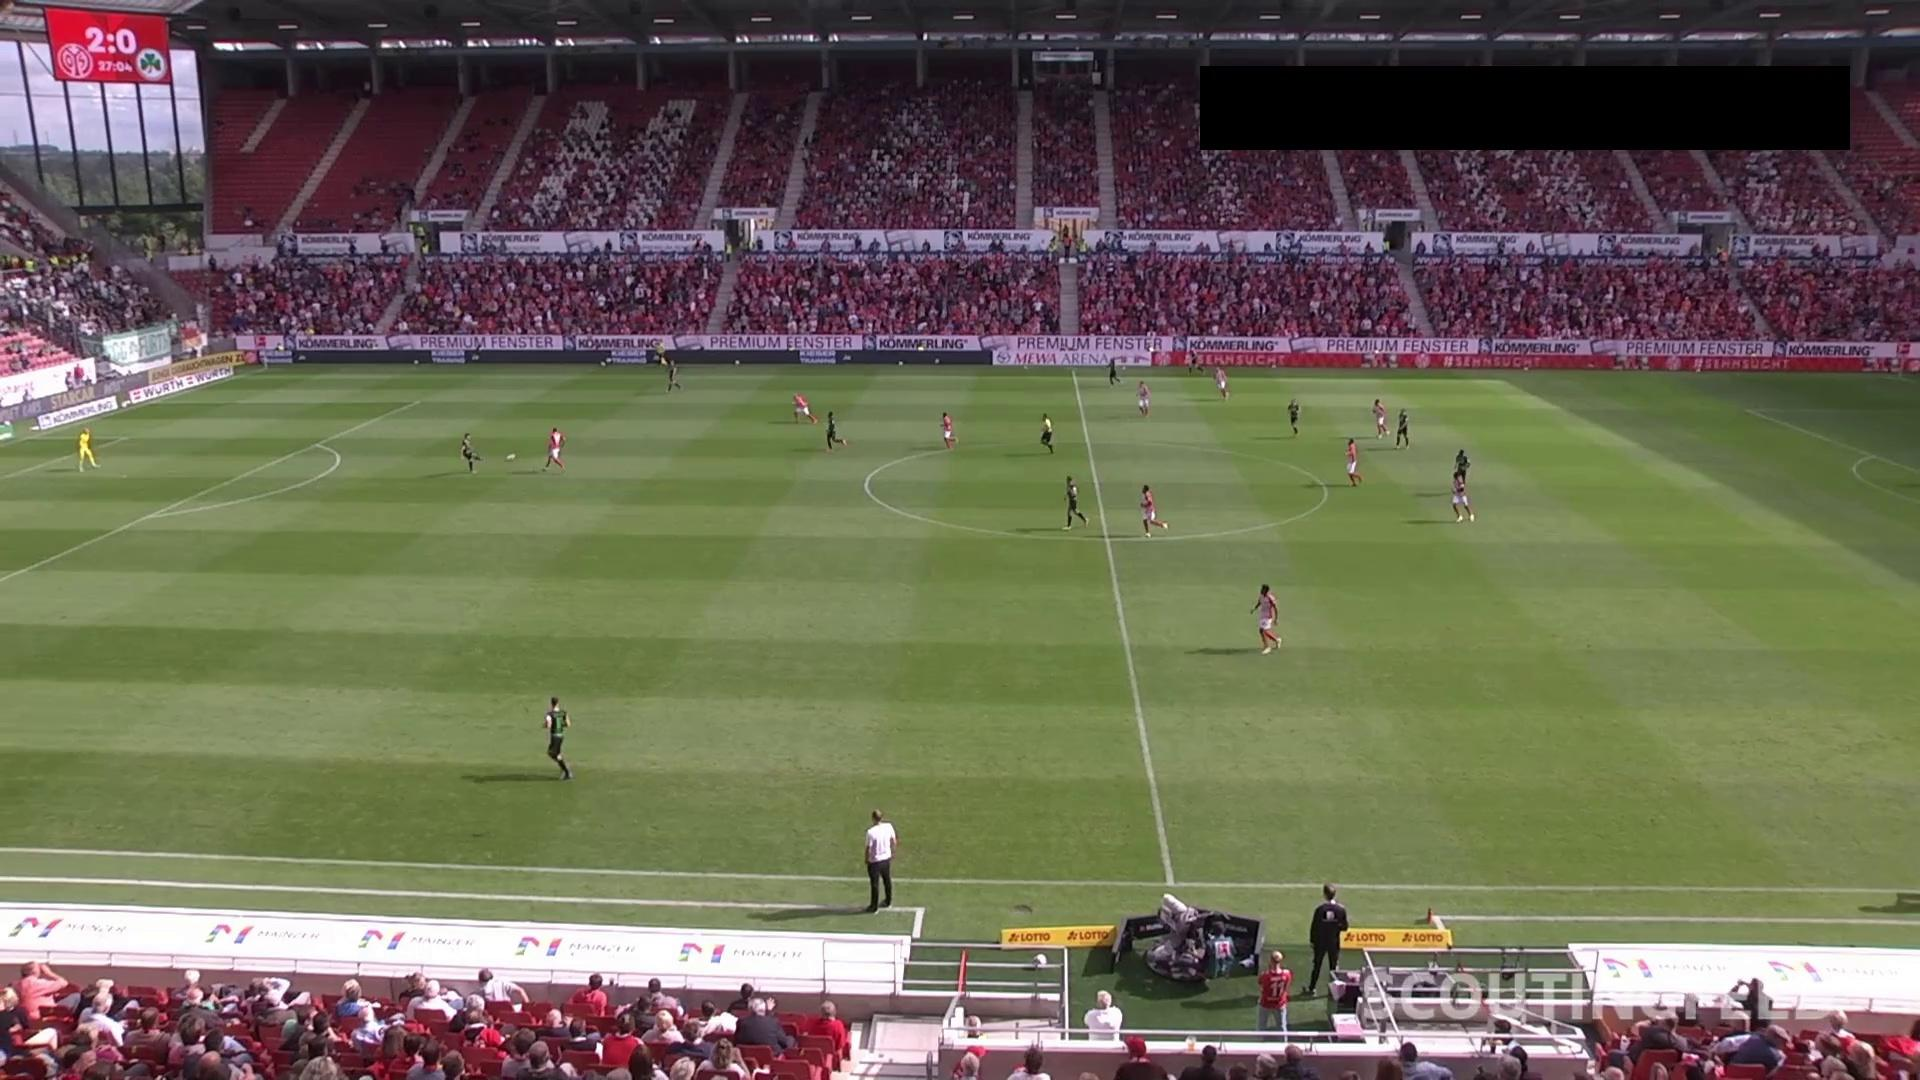Location-of-ball: (506, 445, 529, 470)
